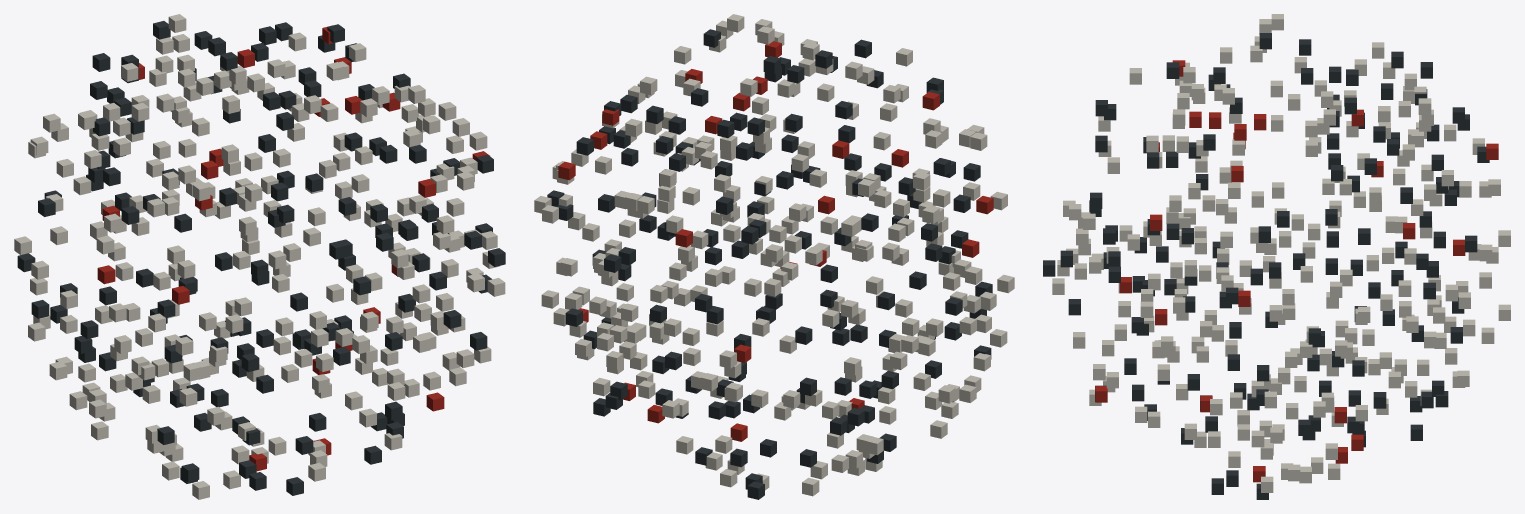
3 views of the same model, side by side, from view 1: azimuth 30°, elevation 25°; view 2: azimuth 150°, elevation 25°; view 3: azimuth 270°, elevation 25° (orthographic). The views are drawn at different scales.
Visible parts, largest first — view 1: nanite-cloud-painted; view 2: nanite-cloud-painted; view 3: nanite-cloud-painted.
Boxes of the visible parts, box(x1,y1,x2,y2) form: nanite-cloud-painted: box(14, 14, 505, 499); nanite-cloud-painted: box(534, 14, 1014, 499); nanite-cloud-painted: box(1043, 14, 1510, 499).
Bounding box in the file's own units: 9.62 × 9.37 × 9.47.
